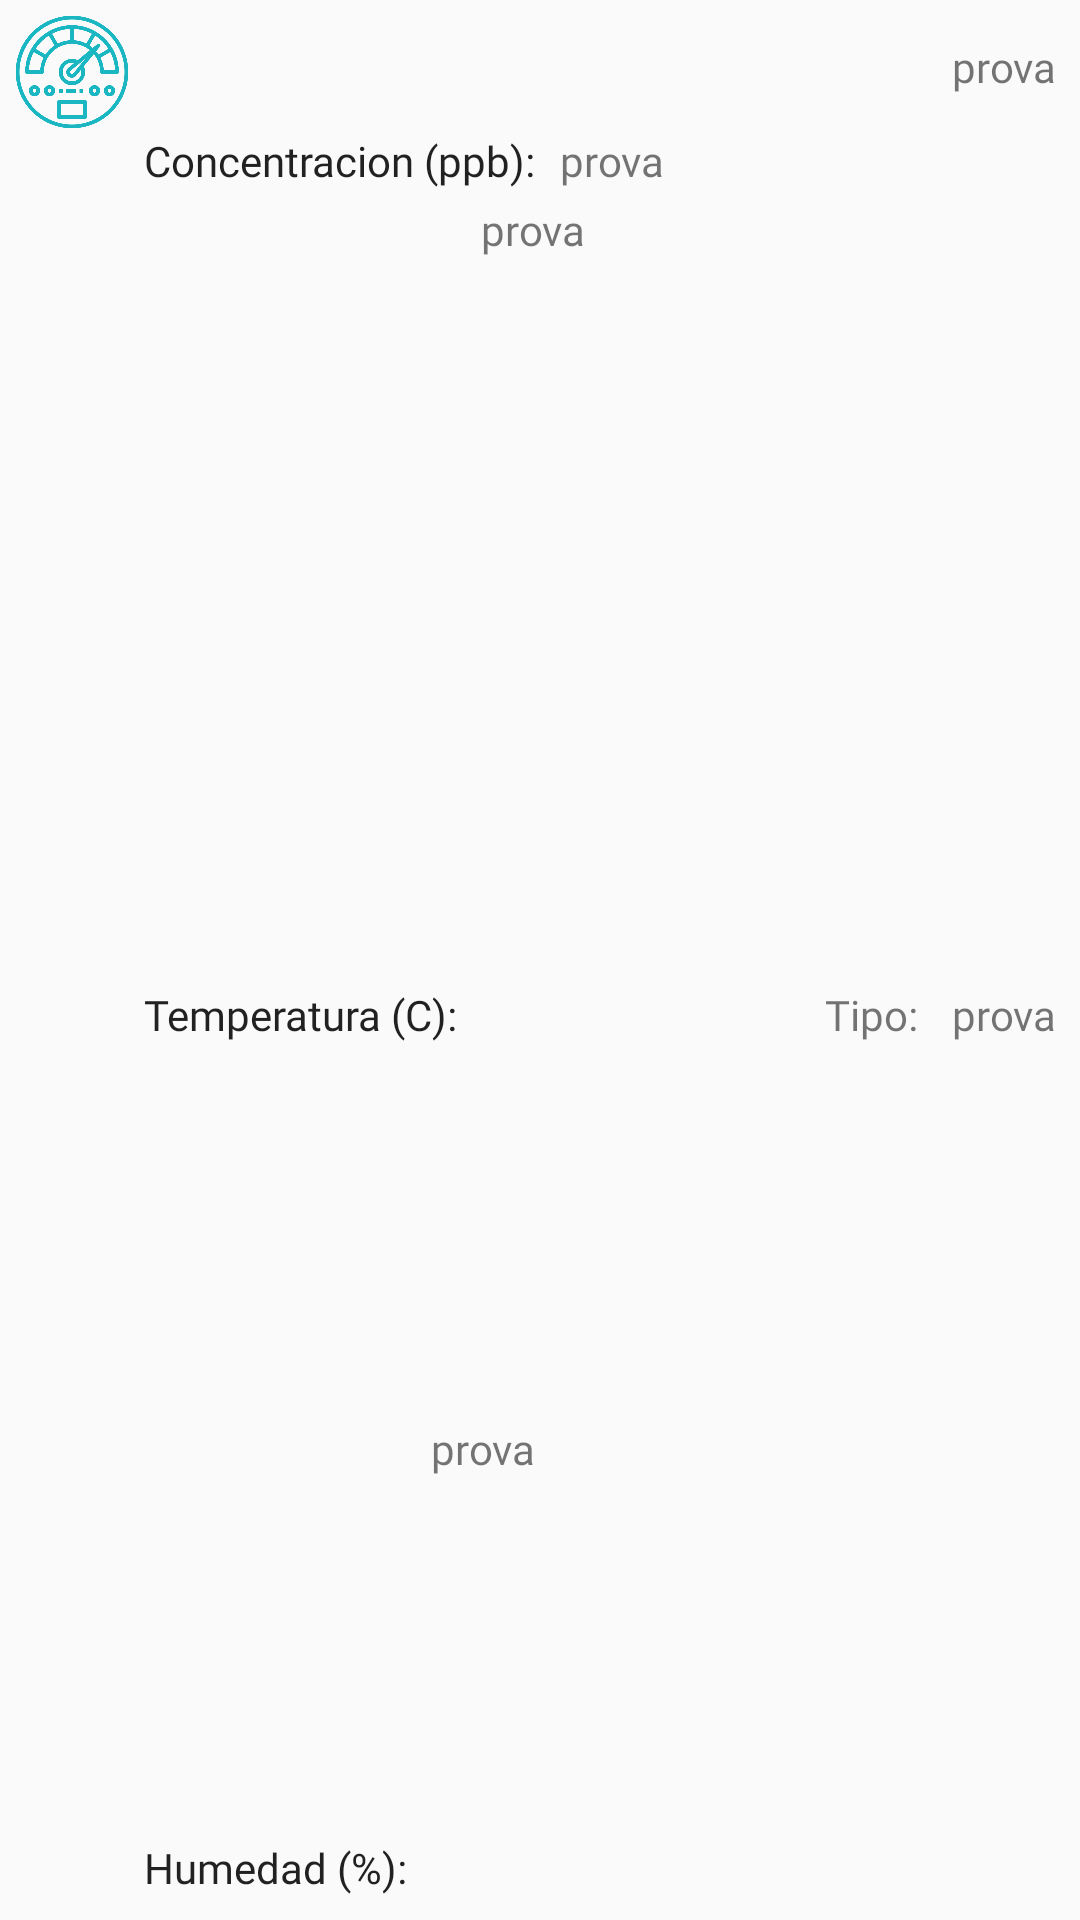

Screen size 1080x1920. Icon name, then its center in pixels as point (x, y):
mediciones: point (72, 72)
